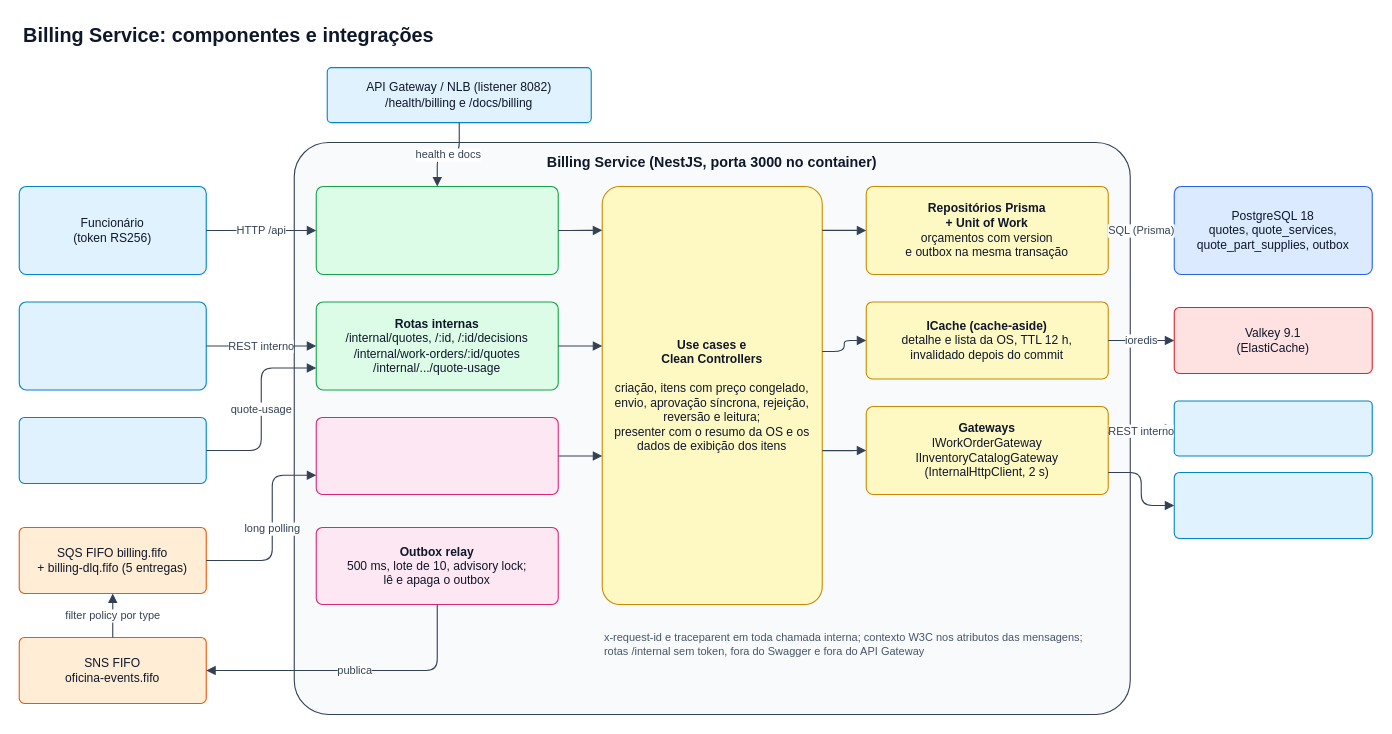
Some shapes in this 1392 by 734 pixel diagram are drawn without their labels. Each missing label, with the centre of its shape:
"Borda HTTP /api/quotes /api/work-orders/:id/quotes Guard RS256 + RolesGuard" belongs at pixel 436 229.
"Consumidor SQS handler de billing.quote.revert_approval" belongs at pixel 436 455.
"Inventory (antes de excluir um item)" belongs at pixel 112 449.
"Inventory GET /internal/services/:id e /parts-supplies/:id" belongs at pixel 1272 504.
"Work Order (abertura da OS, Saga e decisão do cliente)" belongs at pixel 112 345.
"Work Order GET /internal/work-orders/:id" belongs at pixel 1272 428.
